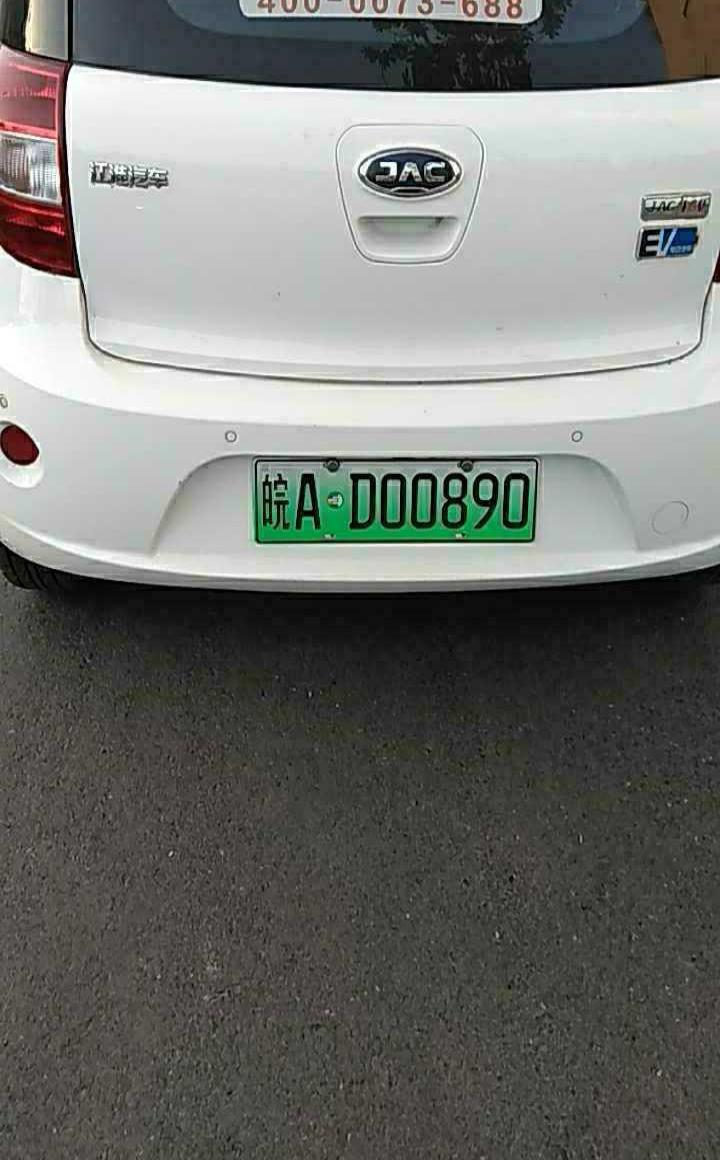car_green: (242, 456, 546, 549)
